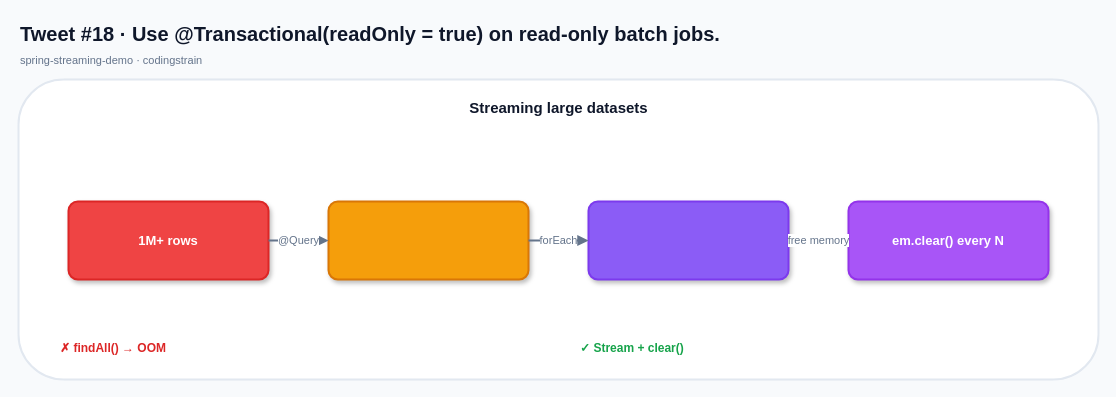
This 1116x397 diagram has some shape labels left out. Each missing label, with the centre of its shape:
"process()" belongs at (689,241).
"Stream<User>" belongs at (429,241).
